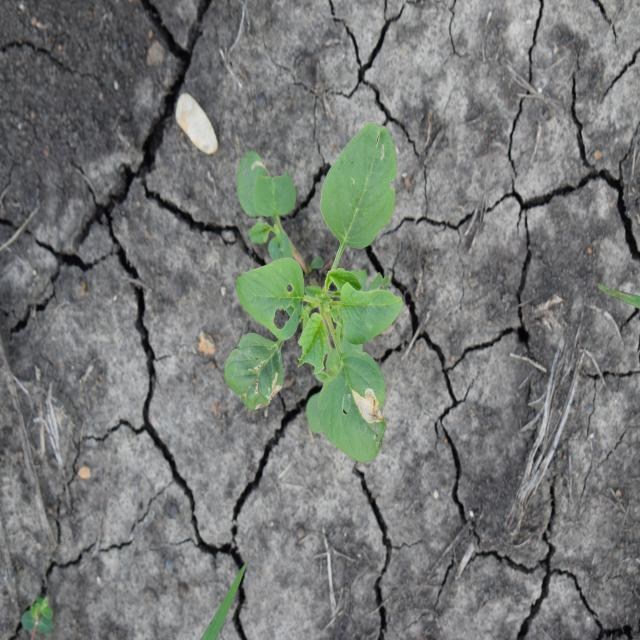PalmerAmaranth: (222, 121, 404, 466)
